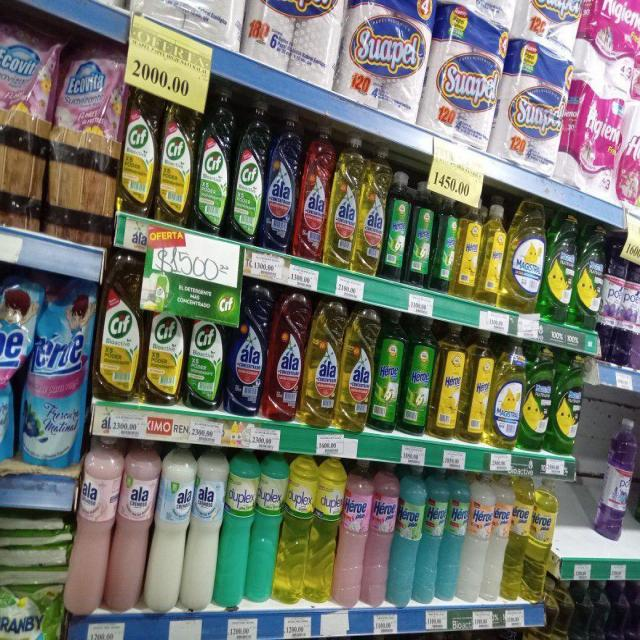ala_conc_amarillo: (304, 297, 338, 427), (339, 305, 371, 431), (328, 136, 356, 269), (356, 155, 384, 275)
ala_conc_azul: (227, 282, 265, 416), (265, 110, 297, 252)
ala_conc_rojo: (266, 288, 303, 422), (298, 123, 327, 262)
ala_crem_blanco: (188, 450, 221, 610)
ala_crem_rosado: (114, 443, 154, 612)
cif_conc_bot_amarilla: (97, 254, 142, 402), (145, 257, 184, 405), (159, 88, 194, 224), (122, 86, 156, 216)
cif_conc_botella_verde: (195, 85, 231, 235), (232, 97, 264, 244)
heroe: (338, 458, 368, 608), (392, 464, 421, 607), (528, 475, 558, 602), (371, 310, 401, 432), (368, 462, 393, 608), (463, 472, 490, 604), (431, 322, 461, 439), (401, 316, 430, 434), (461, 330, 491, 444), (488, 475, 511, 602), (383, 169, 408, 281), (509, 476, 528, 602)
magistral_con_amarillo: (506, 198, 543, 312), (492, 338, 522, 449)
